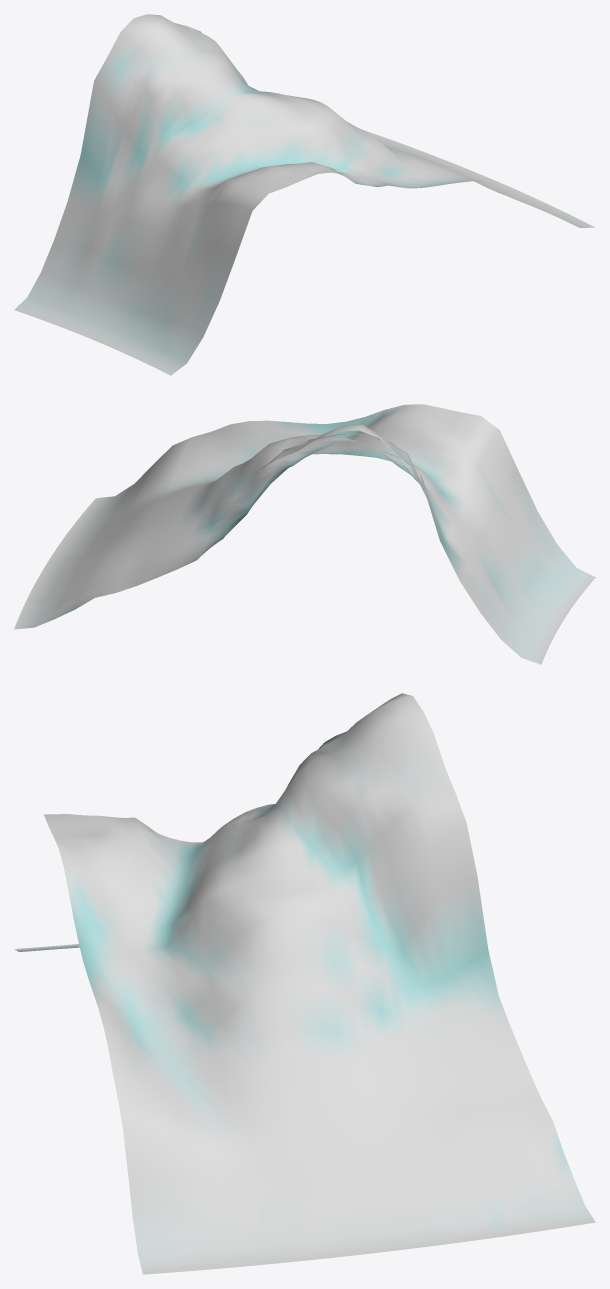
Rendered from near_16.glb.
The picture shows the model from 3 angles, top to bottom: view 1: azimuth 30°, elevation 25°; view 2: azimuth 150°, elevation 25°; view 3: azimuth 270°, elevation 25°; orthographic projection. The views are drawn at different scales.
Visible parts, largest first — view 1: Mountain; view 2: Mountain; view 3: Mountain.
Part boxes in pixels (<box>): Mountain: <box>14,14,595,375</box>; Mountain: <box>14,404,595,664</box>; Mountain: <box>14,693,595,1274</box>.
Bounding box in the file's own units: 382 × 161 × 261.
